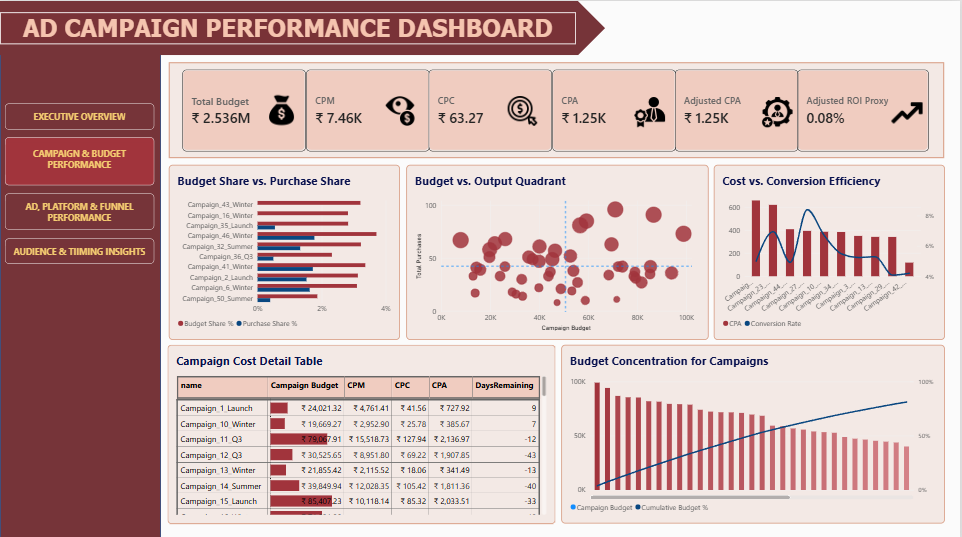

What the dashboard file says about the page in this screenshot:
{"tool":"powerbi","page":{"name":"Campaign  & Budget Perfomance","canvas":[1920,1080],"ordinal":1},"visuals":[{"type":"shape","box":[338.4,123.1,1550.9,191.8],"z":0},{"type":"cardVisual","fields":{"Data":["Measures Table.Total Budget All Campaigns"]},"box":[365.6,137.5,246.1,162.9],"z":1000},{"type":"cardVisual","fields":{"Data":["Measures Table.CPM"]},"box":[611.7,137.5,246.1,162.9],"z":2000},{"type":"cardVisual","fields":{"Data":["Measures Table.CPC"]},"box":[857.8,137.5,246.1,162.9],"z":3000},{"type":"cardVisual","fields":{"Data":["Measures Table.CPA"]},"box":[1103.9,137.5,246.1,162.9],"z":4000},{"type":"cardVisual","fields":{"Data":["Measures Table.Adjusted ROI Proxy"]},"box":[1596.1,137.5,262.4,162.9],"z":5000},{"type":"cardVisual","fields":{"Data":["Measures Table.Adjusted CPA"]},"box":[1350,137.5,246.1,162.9],"z":6000},{"type":"tableEx","title":"Campaign Cost Detail Table","fields":{"Values":["Campaigns.name","Measures Table.Campaign Budget","Measures Table.CPM","Measures Table.CPC","Measures Table.CPA","Sum(Campaigns.DaysRemaining)"]},"box":[336,688,776,358],"z":7000},{"type":"scatterChart","title":"Budget vs. Output Quadrant","fields":{"Category":["Campaigns.name"],"Size":["Measures Table.Total Impressions"],"X":["Measures Table.Campaign Budget"],"Y":["Measures Table.Total Purchases"]},"box":[812.5,327.5,605,350],"z":8000},{"type":"lineStackedColumnComboChart","title":"Budget Concentration for Campaigns","fields":{"Category":["Campaigns.name"],"Y":["Measures Table.Campaign Budget"],"Y2":["Measures Table.Cumulative Budget %"]},"box":[1122.5,687.5,767.5,357.5],"z":9000},{"type":"shape","box":[0,30,322,1050],"z":10000},{"type":"shape","box":[0,0,1210.7,108.6],"z":11000},{"type":"textbox","box":[0,22,1152,64],"z":12000},{"type":"image","box":[526.6,188.2,70.6,61.5],"z":13000},{"type":"image","box":[758.2,190,85.1,59.7],"z":14000},{"type":"image","box":[1002.6,190,85.1,59.7],"z":15000},{"type":"image","box":[1250.5,190,99.5,65.1],"z":16000},{"type":"image","box":[1769.8,193.6,88,62],"z":17000},{"type":"image","box":[1505.6,190,99.5,65.1],"z":18000},{"type":"lineClusteredColumnComboChart","title":"Cost vs. Conversion Efficiency","fields":{"Category":["Campaigns.name"],"Y":["Measures Table.CPA"],"Y2":["Measures Table.Conversion Rate"]},"box":[1428,328,462,350],"z":19000},{"type":"clusteredBarChart","title":"Budget Share vs. Purchase Share","fields":{"Category":["Campaigns.name"],"Y":["Measures Table.Budget Share %","Measures Table.Purchase Share %"]},"box":[337.5,327.5,462.5,350],"z":20000},{"type":"actionButton","title":"EXECUTIVE OVERVIEW","box":[10,204,298,52],"z":21000},{"type":"actionButton","title":"CAMPAIGN & BUDGET PERFORMANCE","box":[10,272,298,96],"z":22000},{"type":"actionButton","title":"AD, PLATFORM & FUNNEL PERFORMANCE","box":[10,386,298,72],"z":23000},{"type":"actionButton","title":"AUDIENCE & TIIMING INSIGHTS","box":[10,476,298,50],"z":24000}]}

Visuals, with their boxes on the page's 1920x1080 design canvas (x1, y1, x2, y2). These are canvas units, not pixel positions in the 962x537 screenshot, which may show the page scaled, cropped or inside an application window:
shape: rect(338, 123, 1889, 315)
cardVisual - Measures Table.Total Budget All Campaigns: rect(366, 138, 612, 300)
cardVisual - Measures Table.CPM: rect(612, 138, 858, 300)
cardVisual - Measures Table.CPC: rect(858, 138, 1104, 300)
cardVisual - Measures Table.CPA: rect(1104, 138, 1350, 300)
cardVisual - Measures Table.Adjusted ROI Proxy: rect(1596, 138, 1858, 300)
cardVisual - Measures Table.Adjusted CPA: rect(1350, 138, 1596, 300)
"Campaign Cost Detail Table" tableEx: rect(336, 688, 1112, 1046)
"Budget vs. Output Quadrant" scatterChart: rect(812, 328, 1418, 678)
"Budget Concentration for Campaigns" lineStackedColumnComboChart: rect(1122, 688, 1890, 1045)
shape: rect(0, 30, 322, 1080)
shape: rect(0, 0, 1211, 109)
textbox: rect(0, 22, 1152, 86)
image: rect(527, 188, 597, 250)
image: rect(758, 190, 843, 250)
image: rect(1003, 190, 1088, 250)
image: rect(1250, 190, 1350, 255)
image: rect(1770, 194, 1858, 256)
image: rect(1506, 190, 1605, 255)
"Cost vs. Conversion Efficiency" lineClusteredColumnComboChart: rect(1428, 328, 1890, 678)
"Budget Share vs. Purchase Share" clusteredBarChart: rect(338, 328, 800, 678)
"EXECUTIVE OVERVIEW" actionButton: rect(10, 204, 308, 256)
"CAMPAIGN & BUDGET PERFORMANCE" actionButton: rect(10, 272, 308, 368)
"AD, PLATFORM & FUNNEL PERFORMANCE" actionButton: rect(10, 386, 308, 458)
"AUDIENCE & TIIMING INSIGHTS" actionButton: rect(10, 476, 308, 526)
